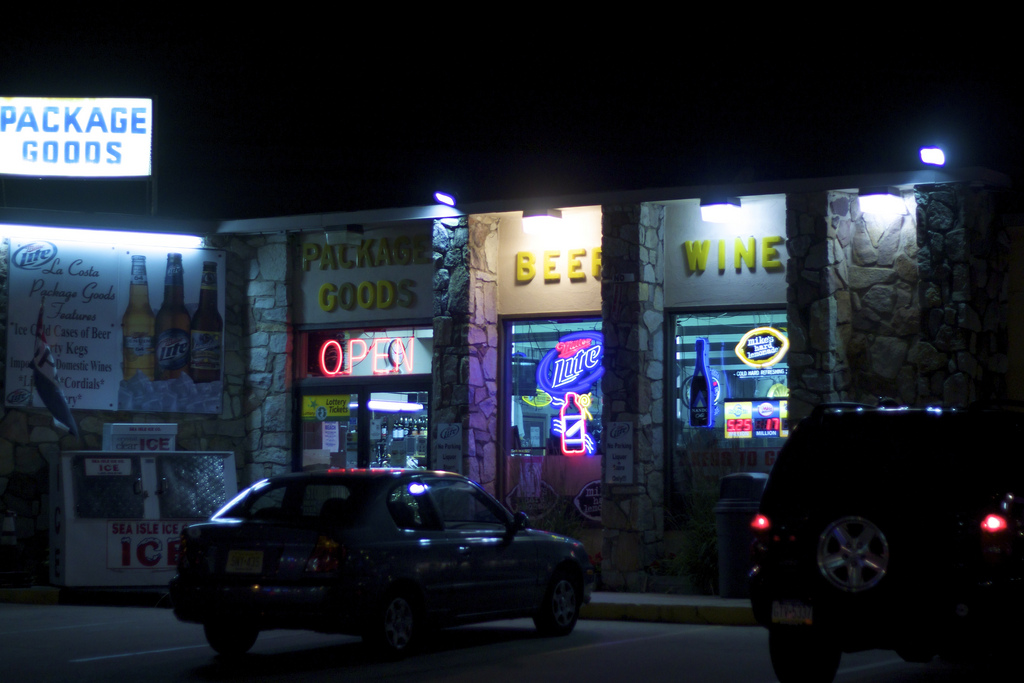car: (161, 460, 608, 671)
